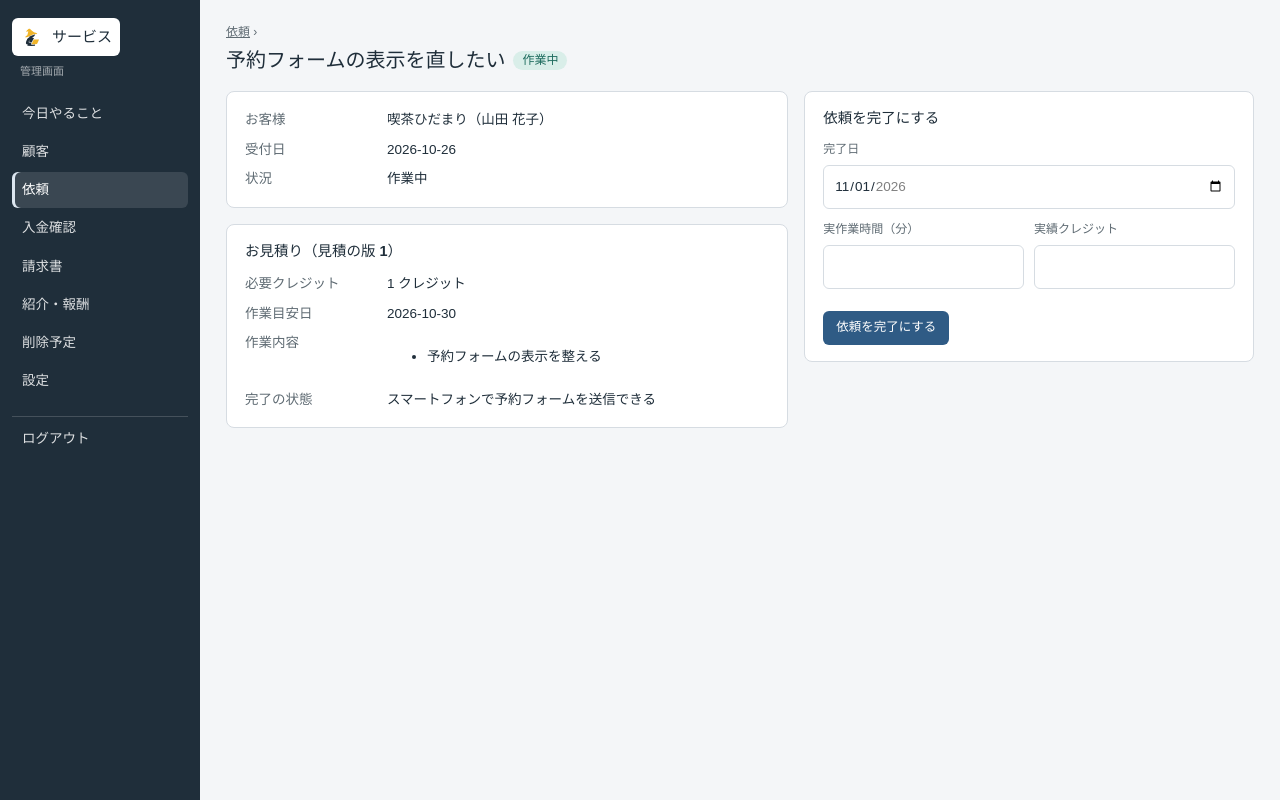
Test: request and estimate routes › retries the identical completion payload after a network error
Step 1. Type "2026-10-27" into the date field labelled "完了日" → (1029, 187), box [823,165,1235,209]
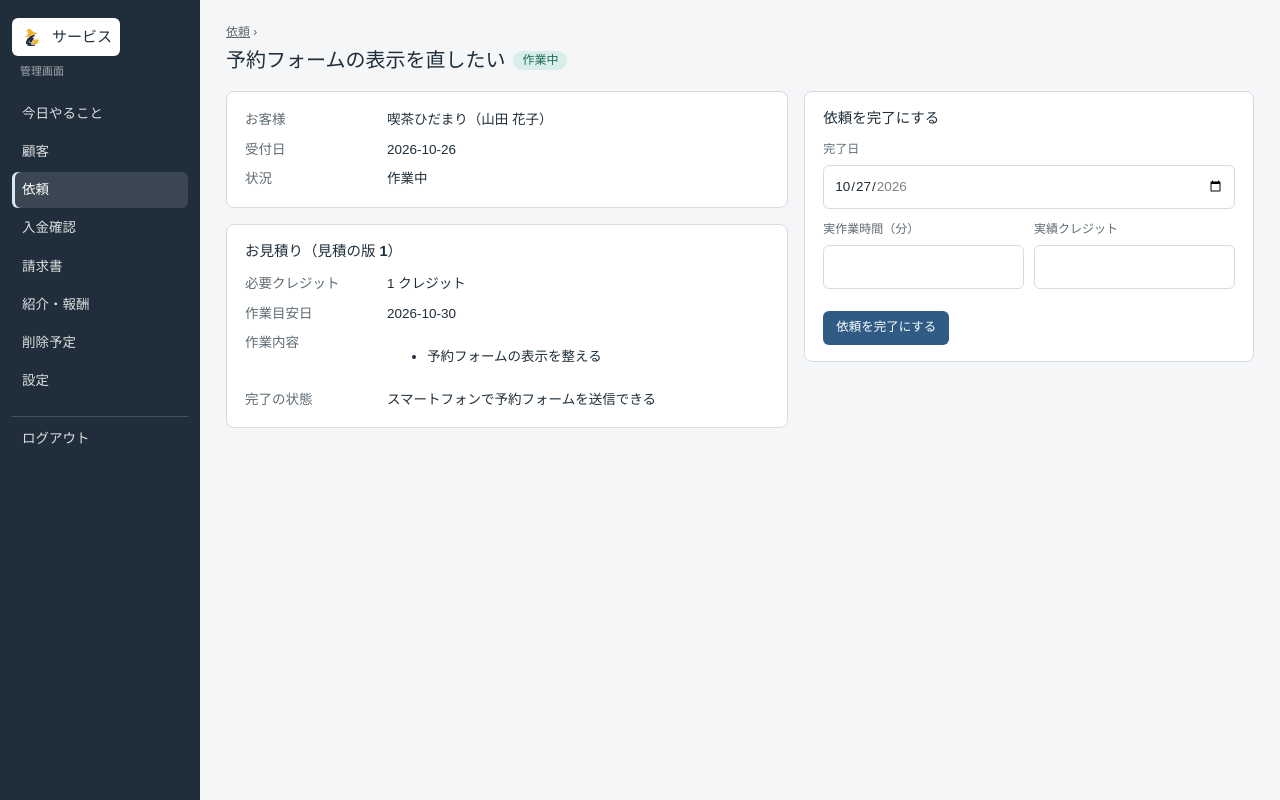
Step 2. Type "45" into the number field labelled "実作業時間（分）" → (924, 267), box [823,245,1024,289]
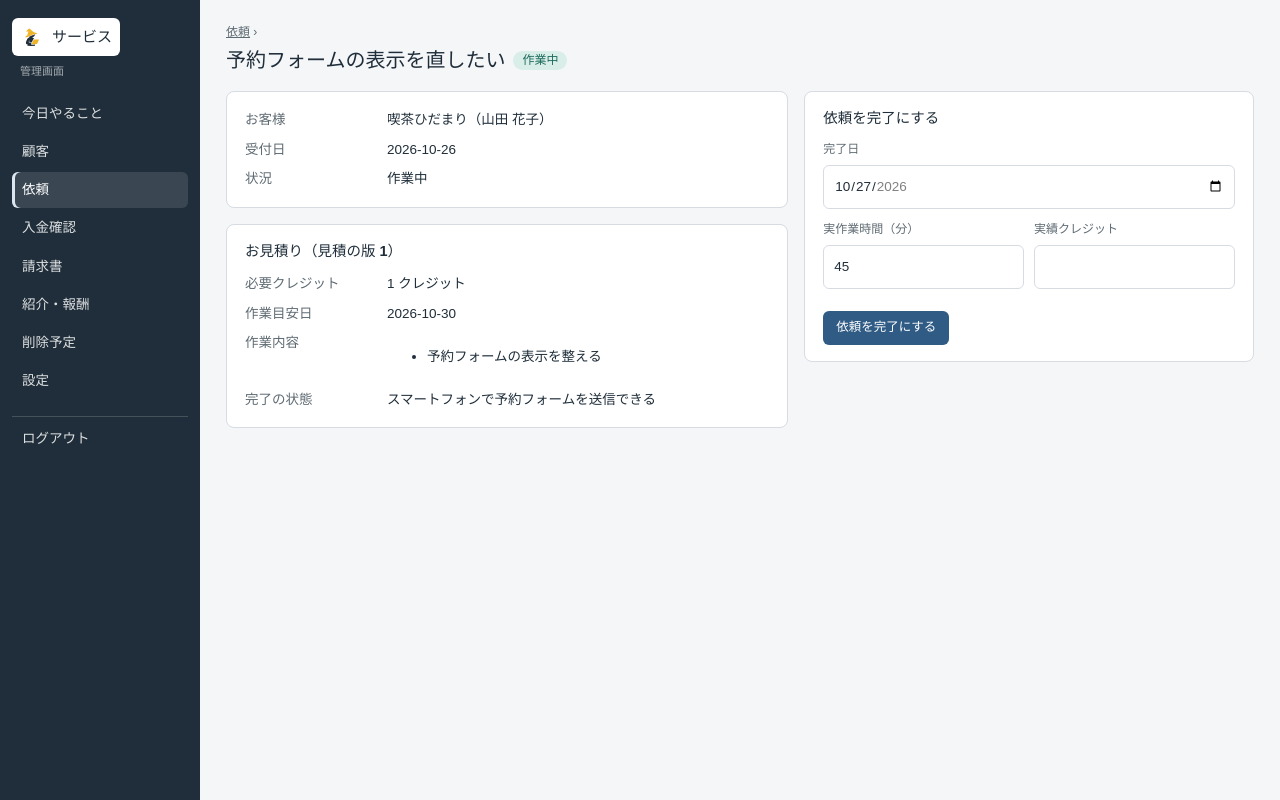
Step 3. Type "1" into the number field labelled "実績クレジット" → (1135, 267), box [1034,245,1235,289]
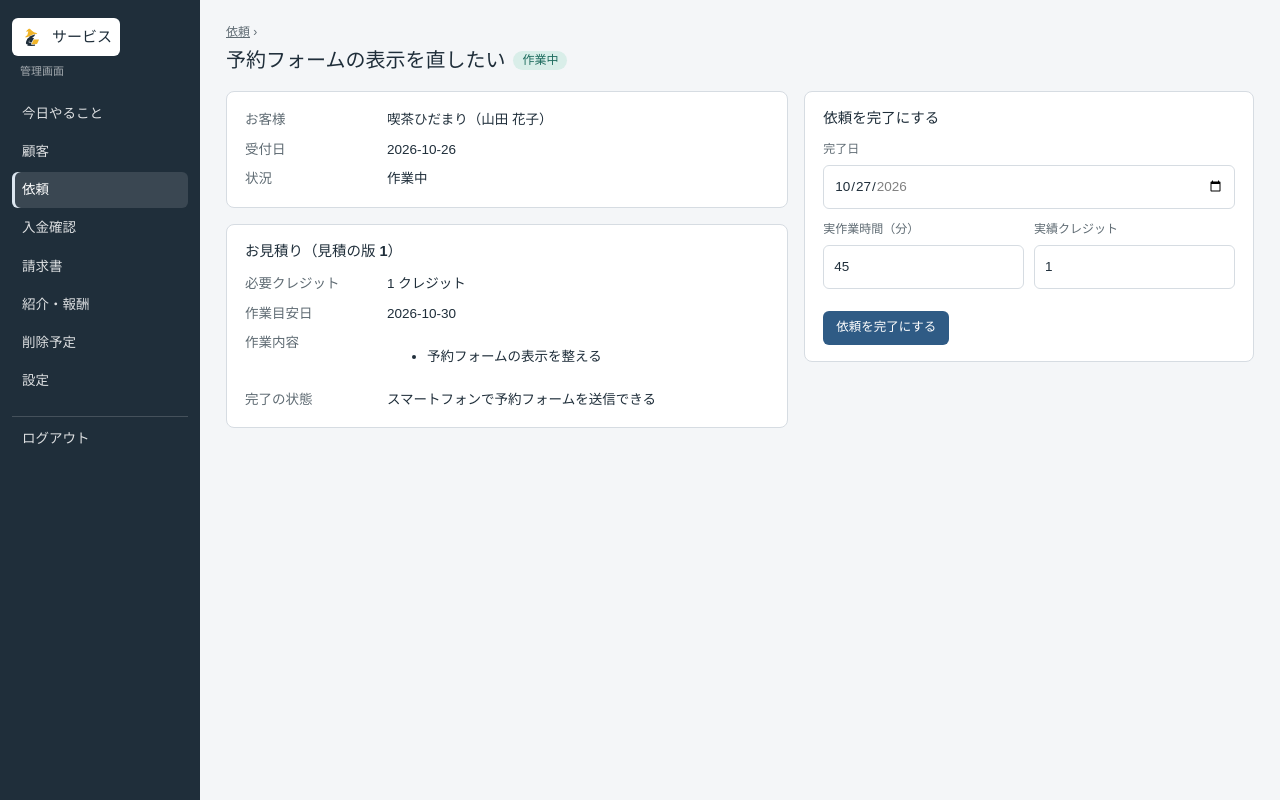
Step 4. Click the button "依頼を完了にする" → (886, 328), box [823,311,949,345]
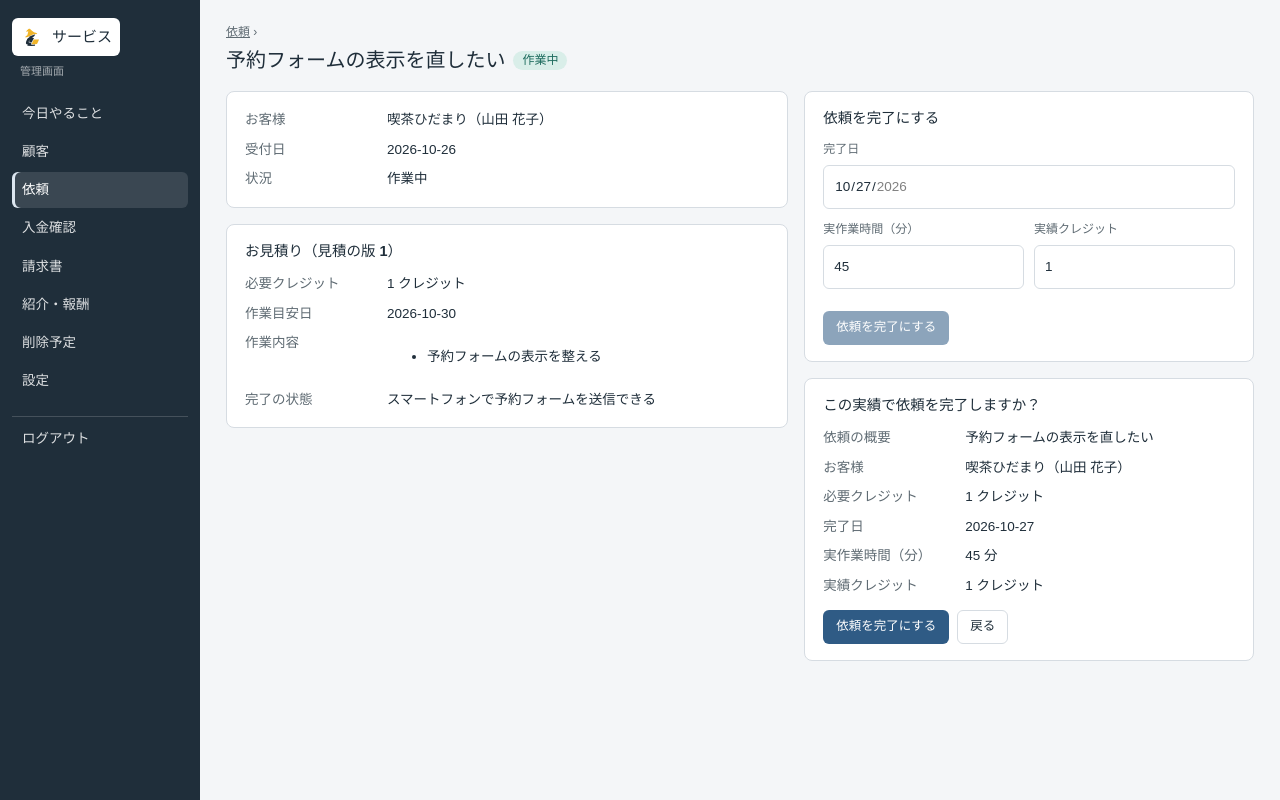
Step 5. Click the button "依頼を完了にする" below "45 分" → (886, 627), box [823,610,949,644]
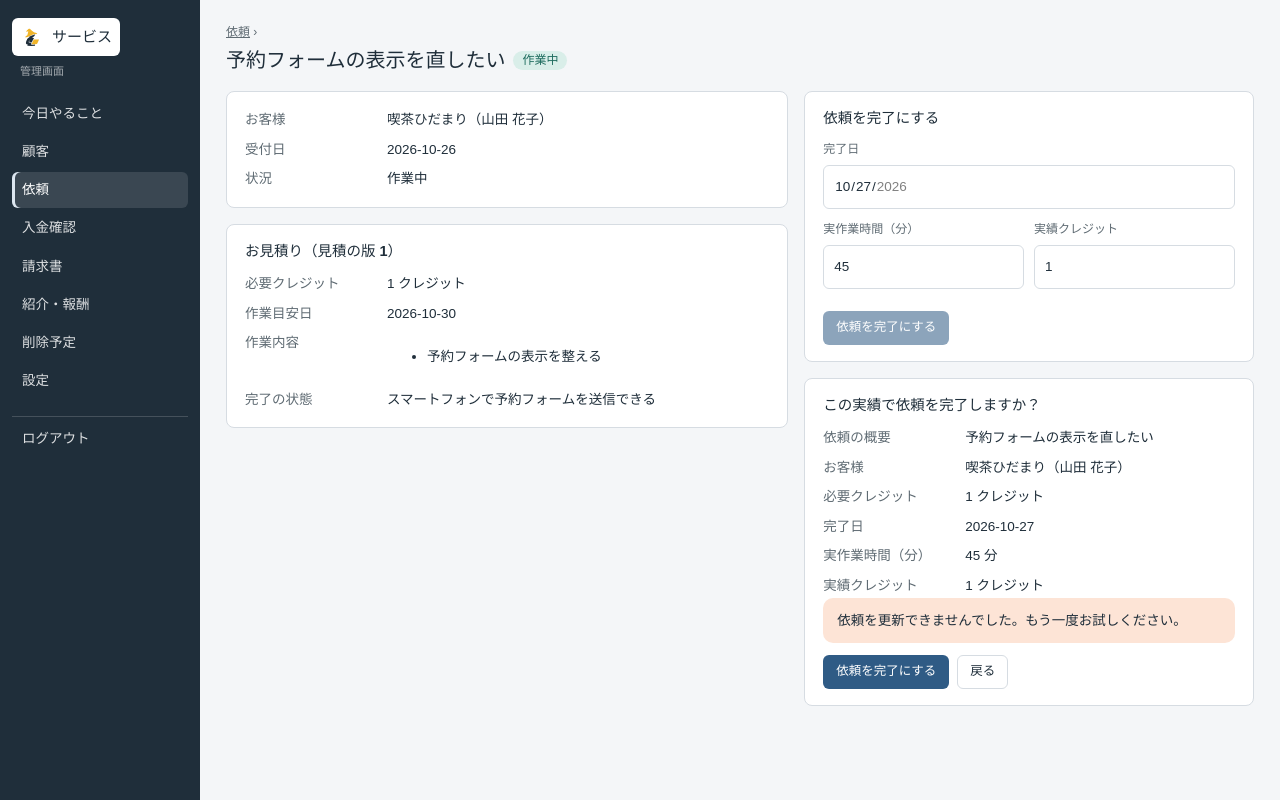
Expected: the text "依頼を更新できませんでした。もう一度お試しください。" is shown, [823,598,1235,643]
Step 6. Click the button "依頼を完了にする" below "依頼を更新できませんでした。もう一度お試しください。" → (886, 672), box [823,655,949,689]
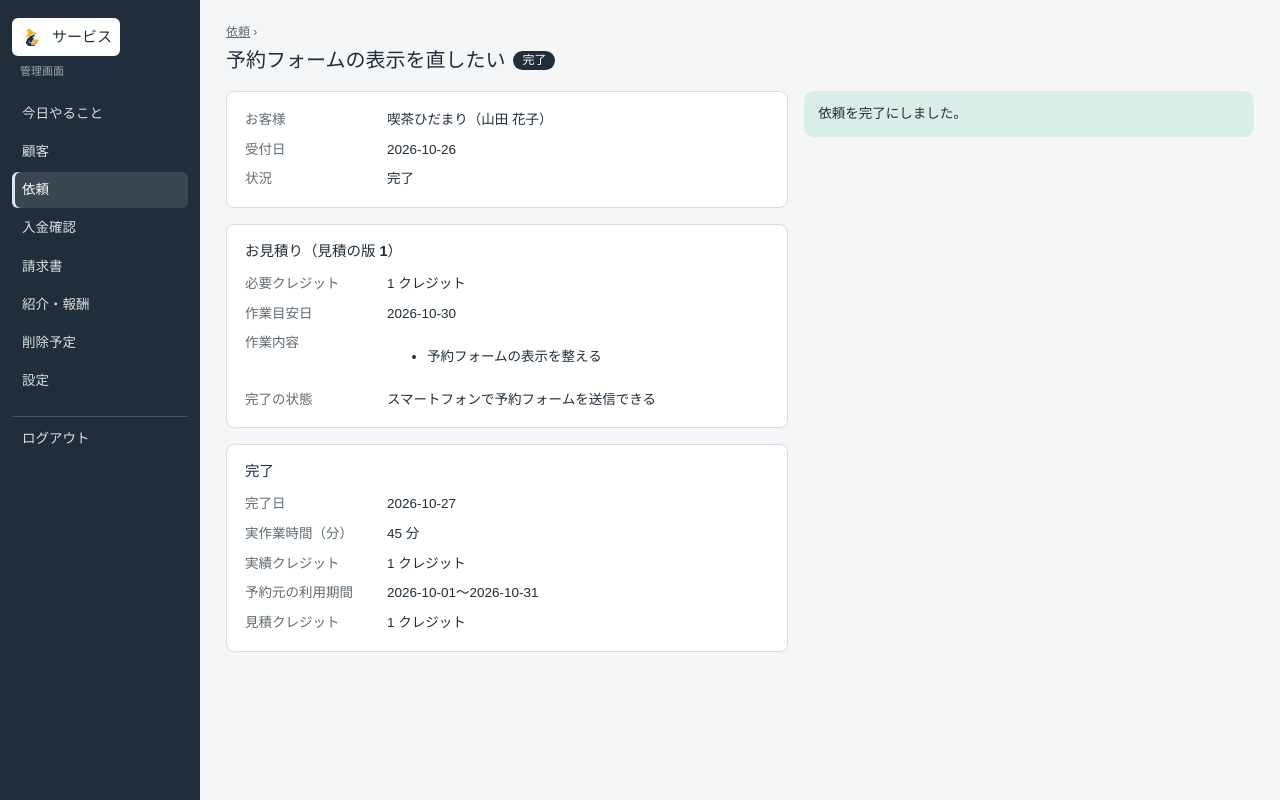
Expected: the text "依頼を完了にしました。" is shown, [804,91,1254,137]
